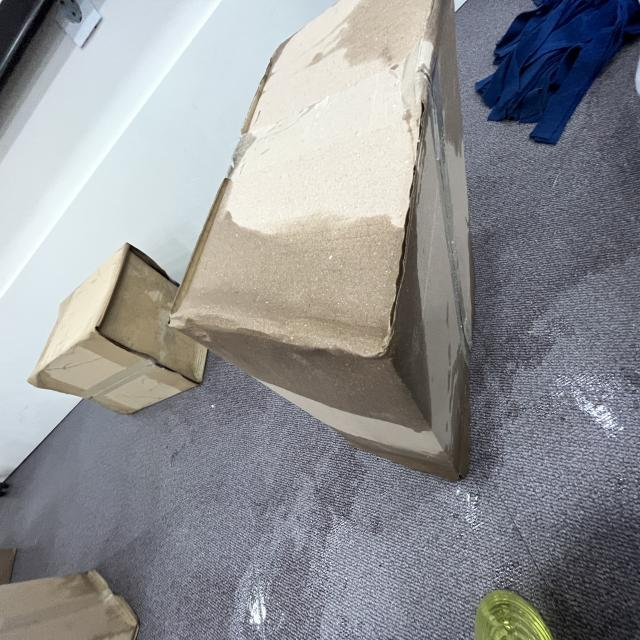wet: (193, 183, 443, 437)
